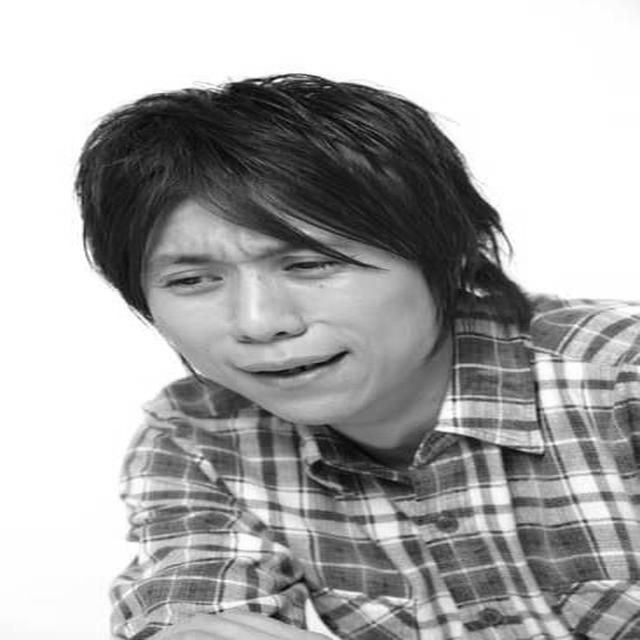Sadness: (149, 199, 379, 426)
